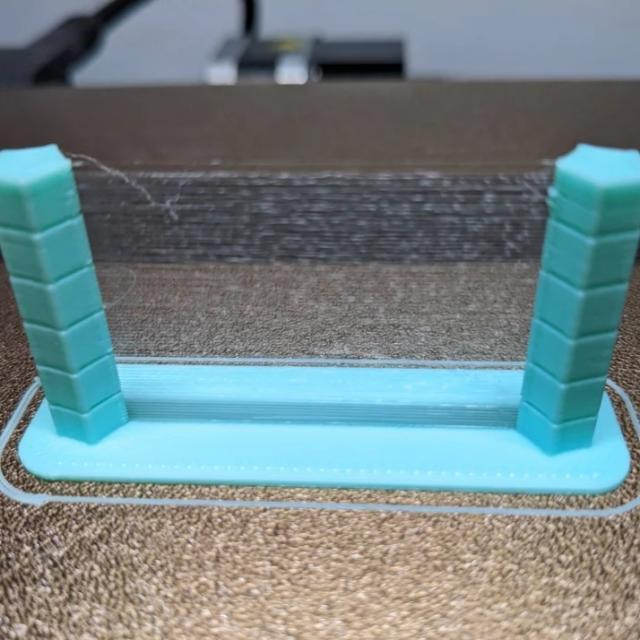stringing: (71, 152, 556, 342)
